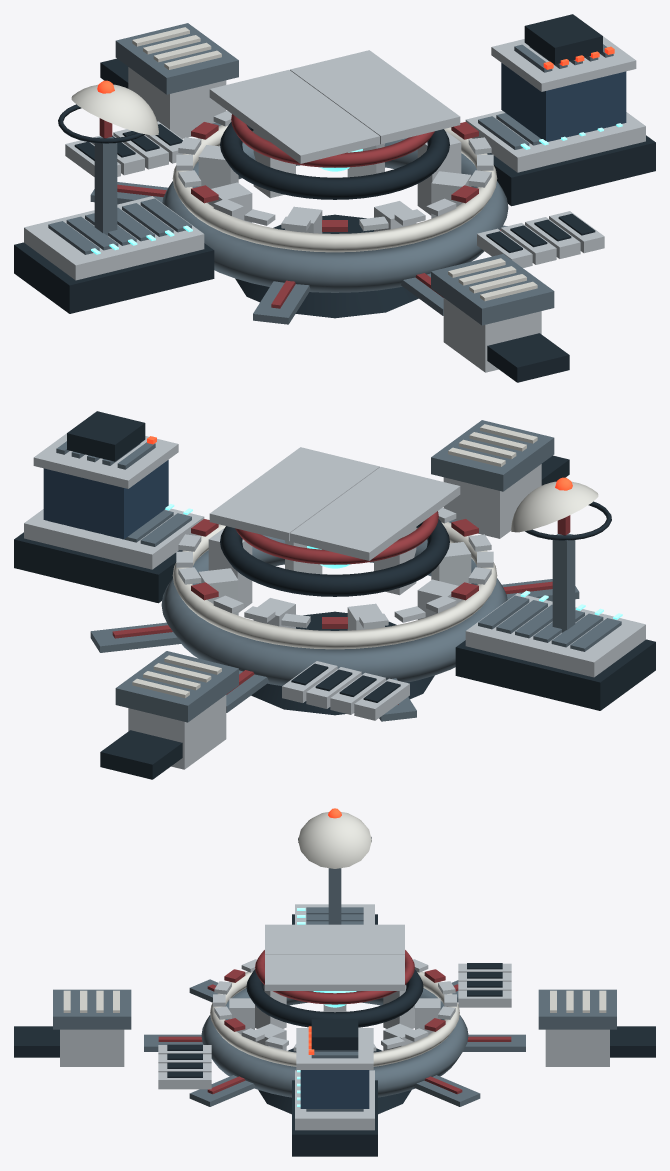
File: relay.glb
3 views of the same model, one above another, from view 1: azimuth 30°, elevation 25°; view 2: azimuth 150°, elevation 25°; view 3: azimuth 270°, elevation 25° (orthographic). The views are drawn at different scales.
Parts seen in each view (by area): view 1: relay-material-4, relay-material-0, relay-material-2, relay-material-1, relay-material-7, relay-material-3, relay-material-5; view 2: relay-material-4, relay-material-0, relay-material-2, relay-material-1, relay-material-7, relay-material-3; view 3: relay-material-4, relay-material-0, relay-material-2, relay-material-1, relay-material-3, relay-material-7.
Part boxes in pixels (x1,y1,x2,y2): relay-material-4: (24,36,645,372); relay-material-0: (48,23,614,325); relay-material-2: (14,14,655,382); relay-material-1: (71,27,537,301); relay-material-7: (501,63,626,141); relay-material-3: (99,114,500,308); relay-material-5: (91,123,622,254); relay-material-4: (24,433,645,769); relay-material-0: (48,420,621,722); relay-material-2: (14,411,655,779); relay-material-1: (132,424,598,698); relay-material-7: (43,460,168,539); relay-material-3: (112,511,570,704); relay-material-4: (60,904,609,1130); relay-material-0: (53,868,616,1111); relay-material-2: (14,837,655,1156); relay-material-1: (63,812,606,1066); relay-material-3: (158,950,511,1094); relay-material-7: (300,1070,369,1108).
Size of the model in its own units: 731 by 297 by 900.
